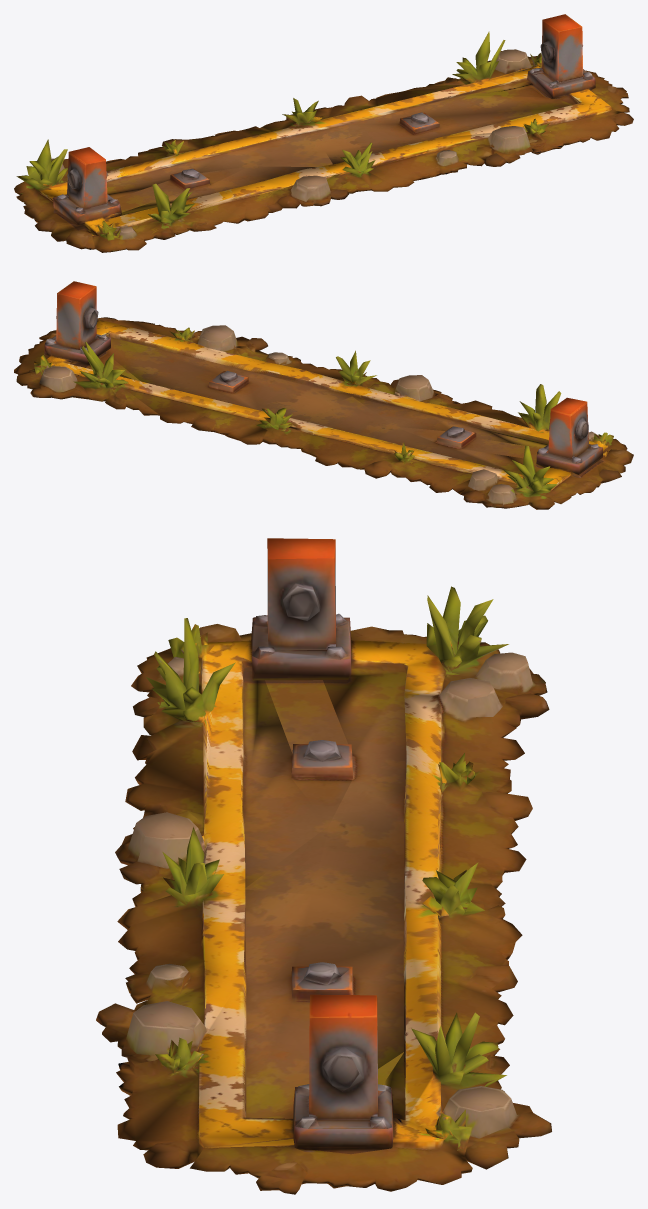
File: CC_Base_FenceSlot.fbx
The picture shows the model from 3 angles, top to bottom: view 1: azimuth 30°, elevation 25°; view 2: azimuth 150°, elevation 25°; view 3: azimuth 270°, elevation 25°; orthographic projection. The views are drawn at different scales.
Parts seen in each view (by area): view 1: CC_Base_FenceSlot_LOD0; view 2: CC_Base_FenceSlot_LOD0; view 3: CC_Base_FenceSlot_LOD0.
Boxes of the visible parts, x1,y1,x2,y2 form: CC_Base_FenceSlot_LOD0: (14,14,633,252); CC_Base_FenceSlot_LOD0: (14,281,633,509); CC_Base_FenceSlot_LOD0: (96,538,551,1194).
Size of what is drawn, in the model's own units: 0.9788 by 0.1155 by 0.3325.
